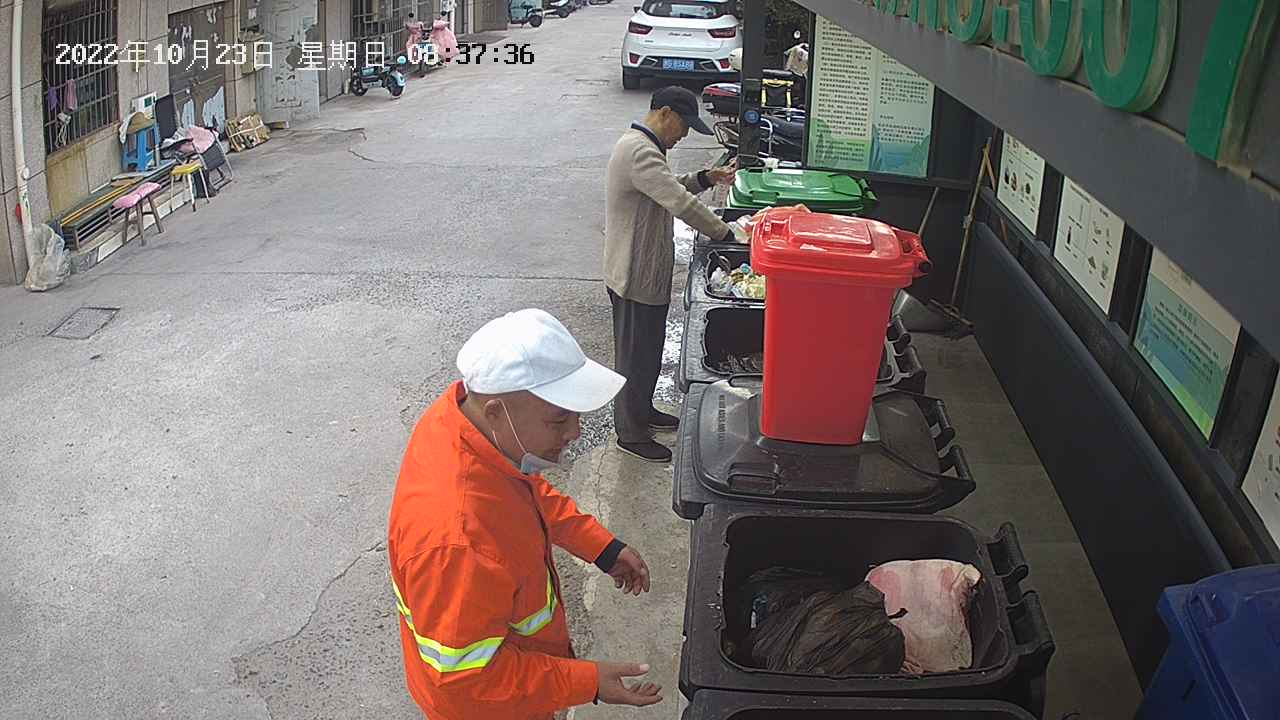person: (597, 84, 744, 467)
worker: (375, 303, 668, 720)
